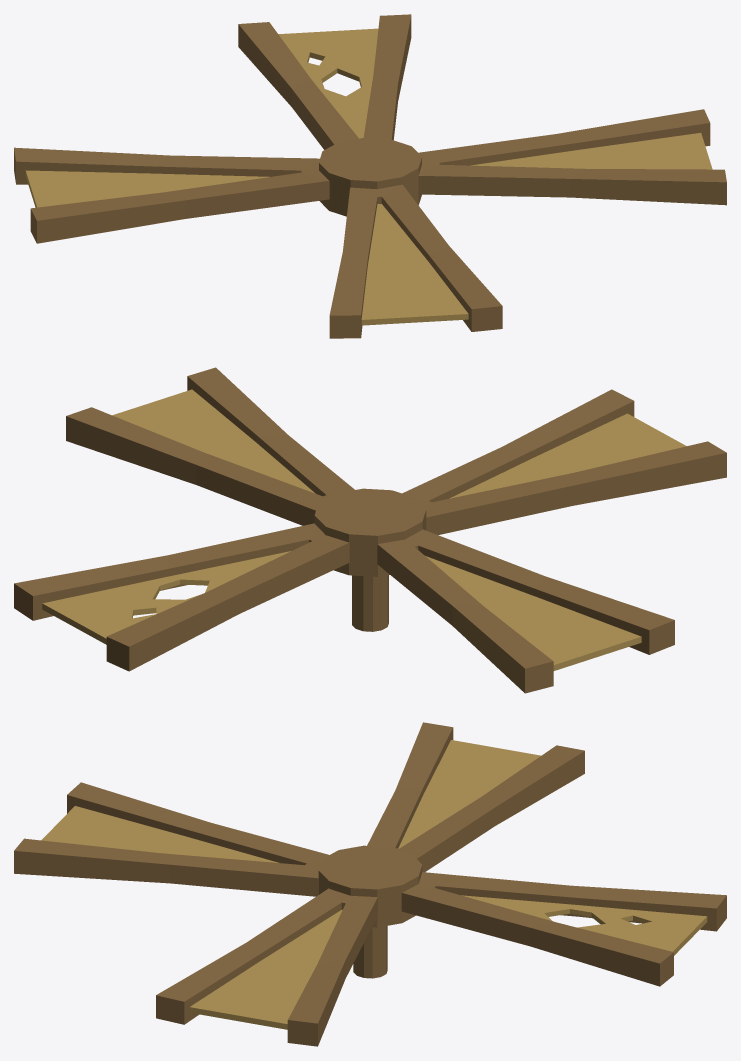
File: windmill-blades2.glb
The picture shows the model from 3 angles, top to bottom: view 1: azimuth 30°, elevation 25°; view 2: azimuth 150°, elevation 25°; view 3: azimuth 270°, elevation 25°; orthographic projection. The views are drawn at different scales.
Visible parts, largest first — view 1: Windmill_SecondAge; view 2: Windmill_SecondAge; view 3: Windmill_SecondAge.
Boxes of the visible parts, x1=… form: Windmill_SecondAge: x1=14, y1=14, x2=726, y2=338; Windmill_SecondAge: x1=14, y1=367, x2=726, y2=693; Windmill_SecondAge: x1=14, y1=722, x2=726, y2=1046.
Size of the model in its own units: 6.68 by 1.07 by 6.68.
